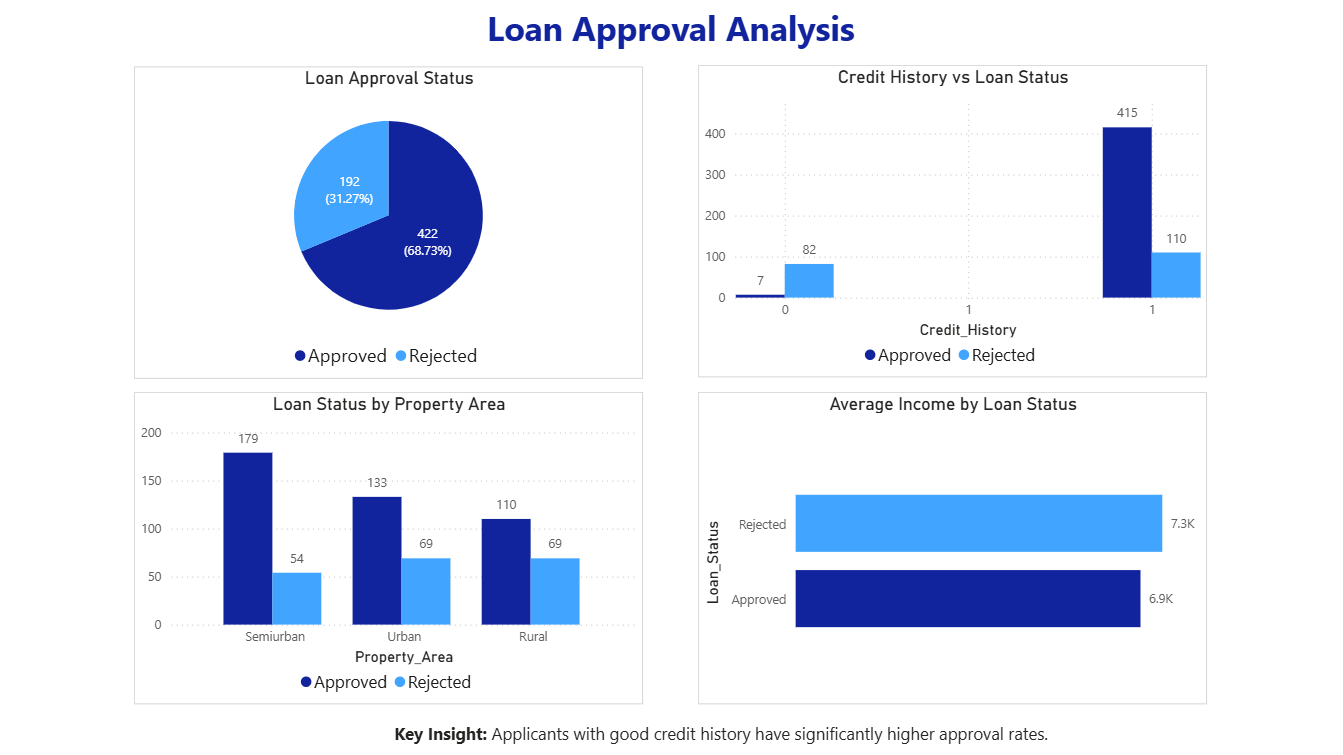

Layout of this report page (visuals, bound fields, positions):
{"tool":"powerbi","page":{"name":"Loan approval Analysis","canvas":[1280,720],"ordinal":0},"visuals":[{"type":"pieChart","title":"Loan Approval Status","fields":{"Category":["Loan_project_import_file.Loan_Status"],"Y":["CountNonNull(Loan_project_import_file.Loan_Status)"]},"box":[128.5,64.3,484.7,297.5],"z":0},{"type":"clusteredColumnChart","title":"Credit History vs Loan Status","fields":{"Category":["Loan_project_import_file.Credit_History"],"Series":["Loan_project_import_file.Loan_Status"],"Y":["CountNonNull(Loan_project_import_file.Loan_Status)"]},"box":[666.3,62.9,484.7,297.5],"z":1000},{"type":"clusteredColumnChart","title":"Loan Status by Property Area","fields":{"Category":["Loan_project_import_file.Property_Area"],"Series":["Loan_project_import_file.Loan_Status"],"Y":["CountNonNull(Loan_project_import_file.Loan_Status)"]},"box":[128.5,374.4,484.7,297.5],"z":2000},{"type":"clusteredBarChart","title":"Average Income by Loan Status","fields":{"Category":["Loan_project_import_file.Loan_Status"],"Y":["Avg(Loan_project_import_file.Total_Income)"]},"box":[666.3,374.4,484.7,297.5],"z":3000},{"type":"textbox","box":[0,0,1279.5,53.1],"z":4000},{"type":"textbox","box":[371.6,683.1,694.2,36.3],"z":5000}]}

Visuals, with their boxes in screenshot pixels (x1, y1, x2, y2), scaled from the page's 1280x720 canvas onto the 1343x755 screenshot:
"Loan Approval Status" pieChart: [135,67,643,379]
"Credit History vs Loan Status" clusteredColumnChart: [699,66,1208,378]
"Loan Status by Property Area" clusteredColumnChart: [135,393,643,705]
"Average Income by Loan Status" clusteredBarChart: [699,393,1208,705]
textbox: [0,0,1342,56]
textbox: [390,716,1118,754]
